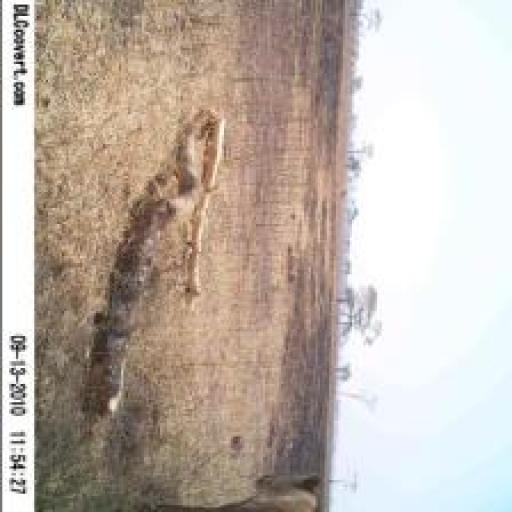lion: (114, 466, 342, 512)
